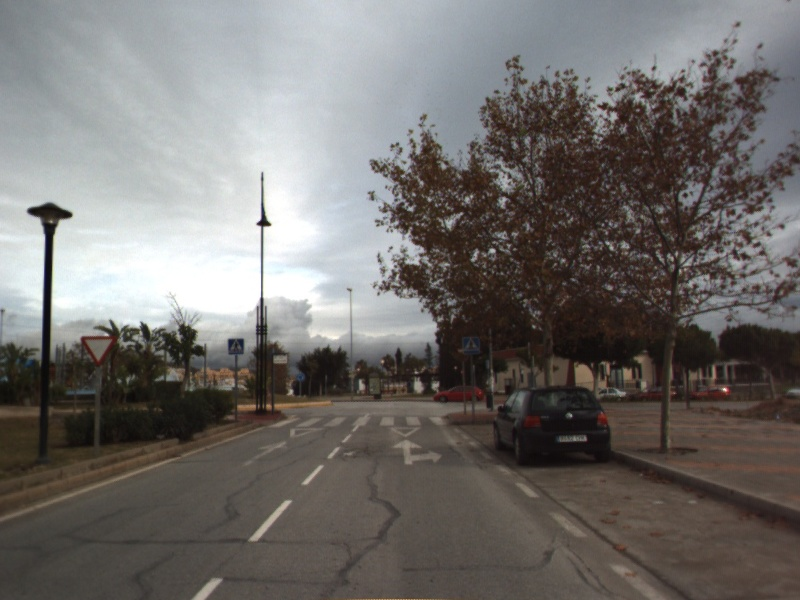STRAIGHT: (240, 438, 290, 468)
STRAIGHT_RIGHT: (389, 437, 444, 466)
